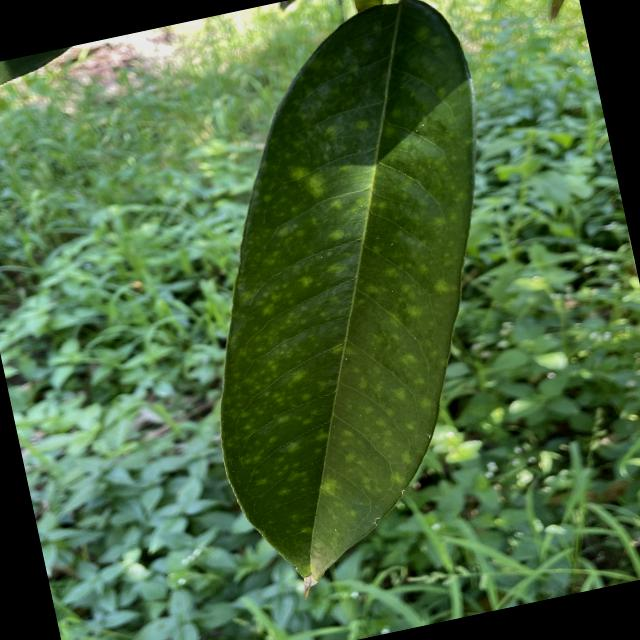Leaf Spot: (125, 0, 582, 615)
